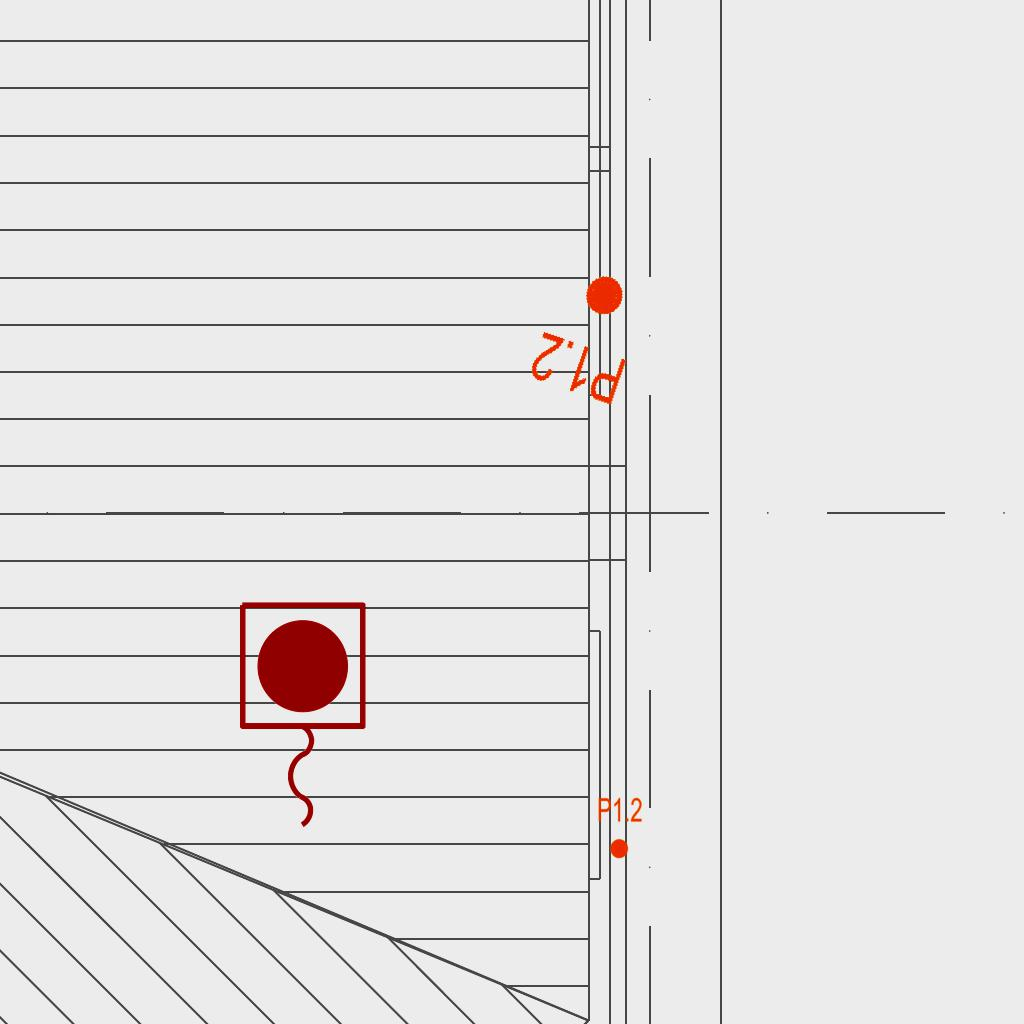Downlight_LED_Einbauleuchten_Flur: (524, 258, 655, 410), (597, 796, 643, 860)
Zugtaster: (229, 594, 373, 838)
